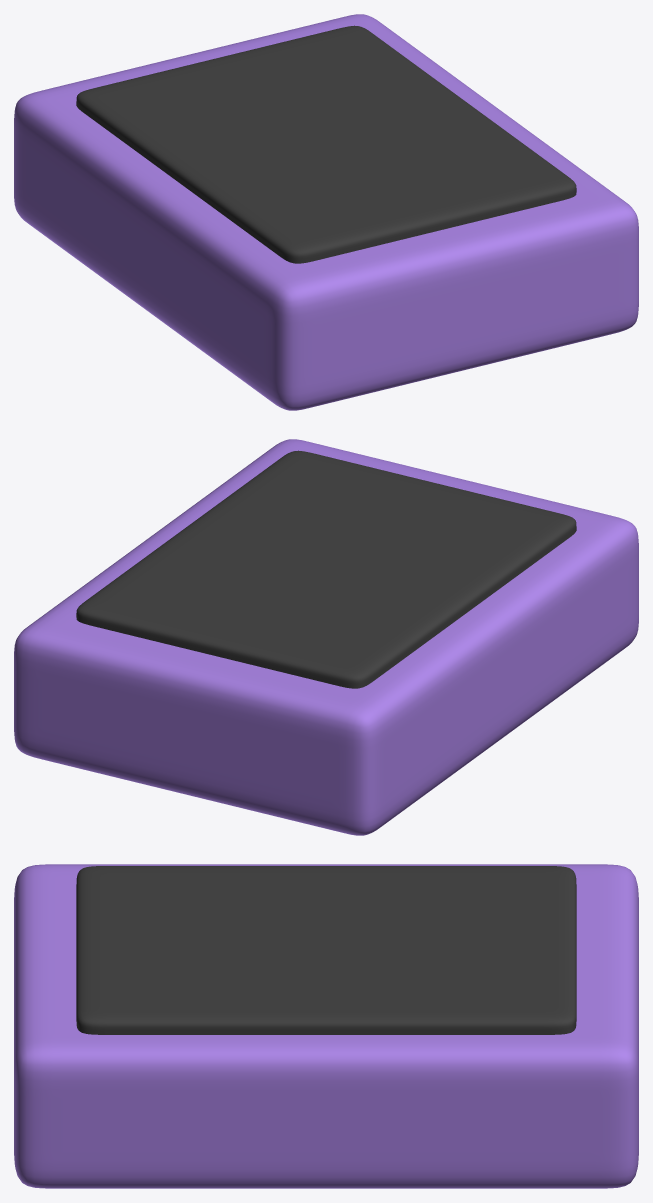
The model's file is block.fbx.
3 renders of one model, top to bottom at view 1: azimuth 30°, elevation 25°; view 2: azimuth 150°, elevation 25°; view 3: azimuth 270°, elevation 25°, orthographic. The views are drawn at different scales.
Visible parts, largest first — view 1: Cube.003; view 2: Cube.003; view 3: Cube.003.
Boxes of the visible parts, left/top/right/bottom form: Cube.003: left=14, top=14, right=638, bottom=410; Cube.003: left=14, top=439, right=638, bottom=835; Cube.003: left=14, top=864, right=638, bottom=1188.
Size of the model in its own units: 30 by 11 by 40.
